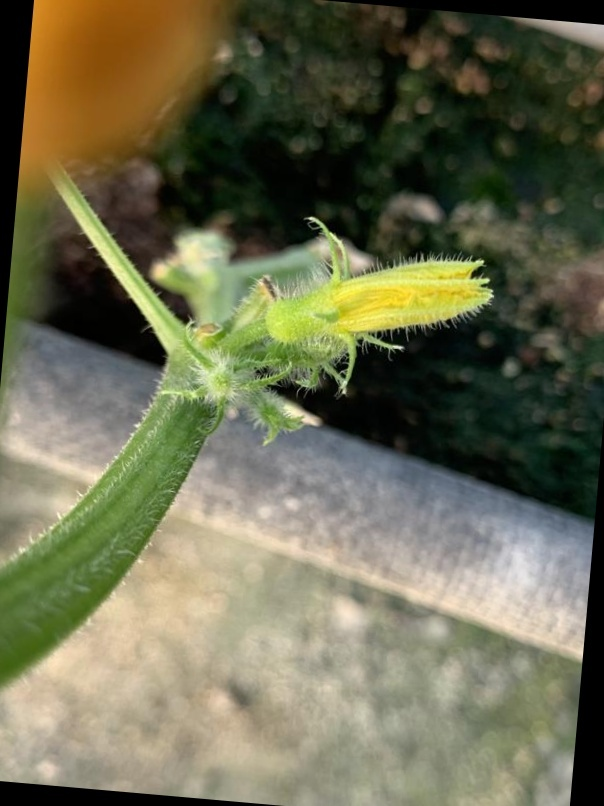bud: (240, 227, 496, 370)
